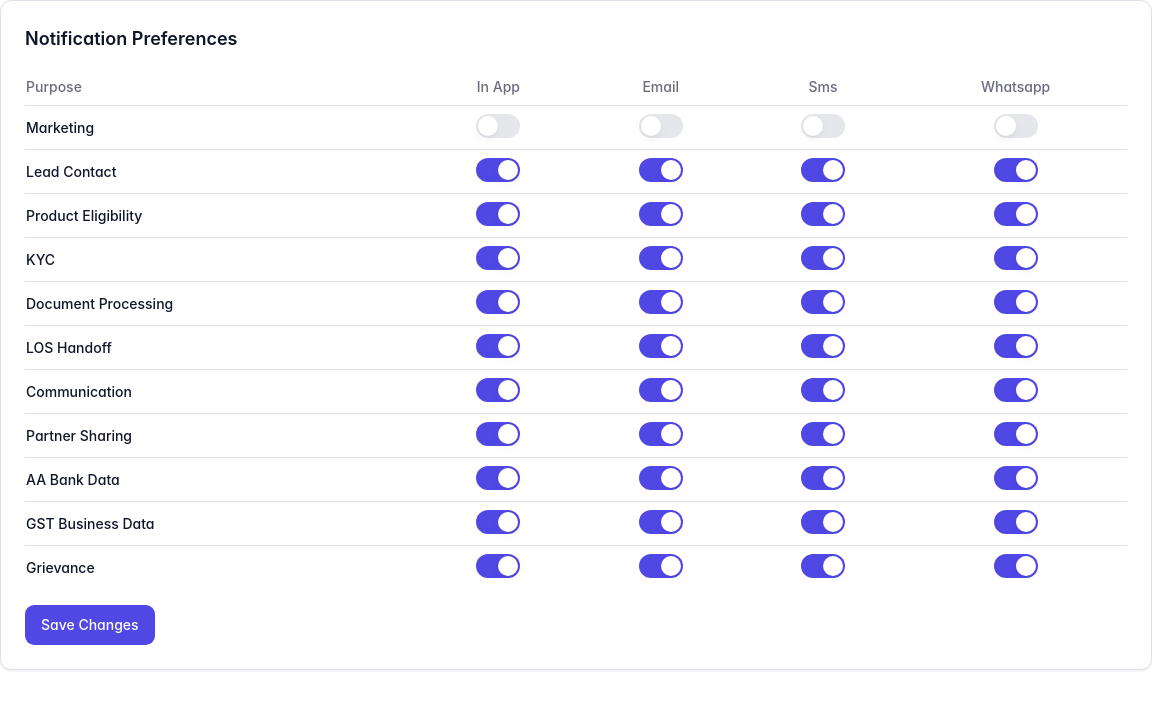
Test: PreferenceCentre (FR-103) › T22 — server error shows error toast
Expected: the button "Save Changes" is shown, [25,605,155,645]
Click the switch named "whatsapp notifications for marketing" at (1016, 126), box [994,114,1038,138]
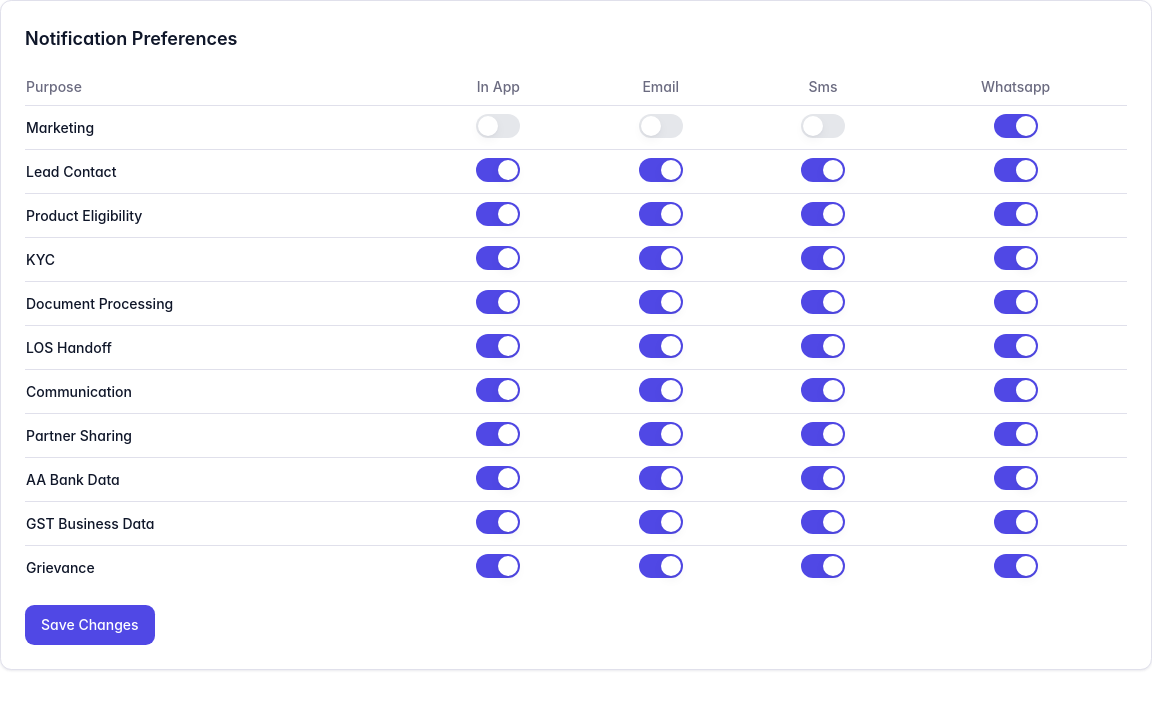
Click the button "Save Changes" at (90, 625), box [25,605,155,645]
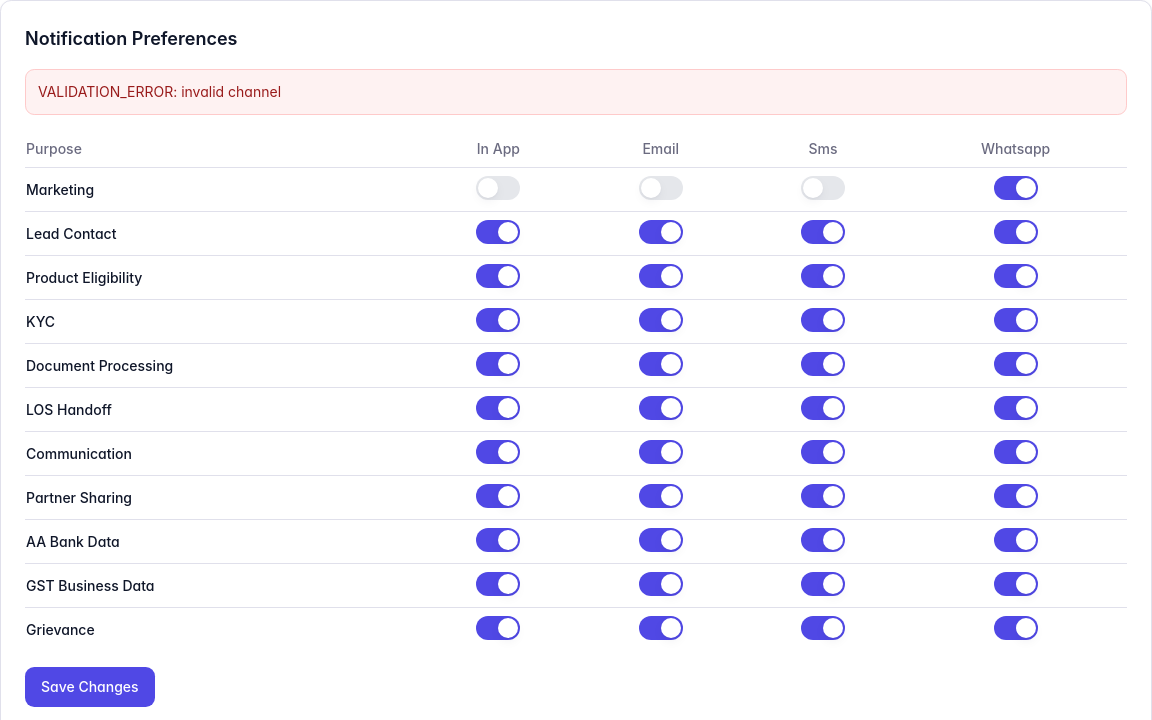
Now the message shows "VALIDATION_ERROR", box [38,83,281,100]
